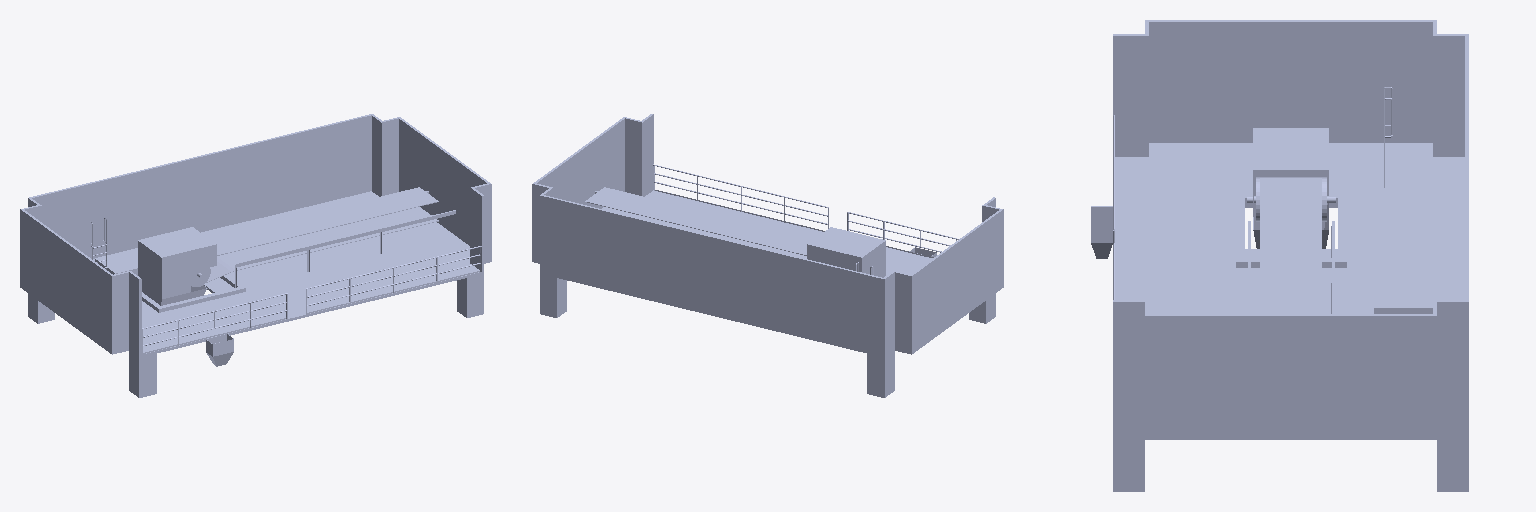
The robot description file, URDF, robot "test_site_gazebo":
<?xml version="1.0" encoding="utf-8"?>
<!-- This URDF was automatically created by SolidWorks to URDF Exporter! Originally created by [author] ([email redacted]) 
     Commit Version: 1.6.0-1-g15f4949  Build Version: 1.6.7594.29634
     For more information, please see http://wiki.ros.org/sw_urdf_exporter -->
<robot
  name="test_site_gazebo">
  <static>true</static>
  <link
    name="base_link">
    <static>true</static>
    <inertial>
      <origin
        xyz="0 0 2"
        rpy="0 0 0" />
      <mass
        value="3271.8" />
      <inertia
        ixx="837.38"
        ixy="1.8972E-13"
        ixz="3.7907E-30"
        iyy="837.38"
        iyz="-3.8867E-14"
        izz="278.77" />
    </inertial>
    <visual>
      <origin
        xyz="0 0 0"
        rpy="0 0 0" />
      <geometry>
        <mesh
          filename="package://test_site_gazebo/meshes/base_link.STL" />
      </geometry>
      <material
        name="">
        <color
          rgba="0.79216 0.81961 0.93333 1" />
      </material>
    </visual>
    <collision>
      <origin
        xyz="0 0 0"
        rpy="0 0 0" />
      <geometry>
        <mesh
          filename="package://test_site_gazebo/meshes/base_link.STL" />
      </geometry>
    </collision>
  </link>
</robot>

--- Render facts (derived) ---
Views: 3 orthographic renders of the robot side by side, from view 1: azimuth 30°, elevation 25°; view 2: azimuth 150°, elevation 25°; view 3: azimuth 270°, elevation 25°.
Robot: test_site_gazebo — 1 links, 0 joints (none); root link base_link; default pose: every joint at zero.
Visible links, largest first — view 1: base_link; view 2: base_link; view 3: base_link.
Boxes of the visible links, box(x1,y1,x2,y2) form: base_link: box(20, 114, 491, 397); base_link: box(532, 114, 1003, 397); base_link: box(1091, 20, 1468, 491).
Size in the robot's own frame: 15.7 by 8.5 by 4.7 metres.
Meshes: 1 distinct files referenced, 1 mesh visuals loaded (1 binary STL).